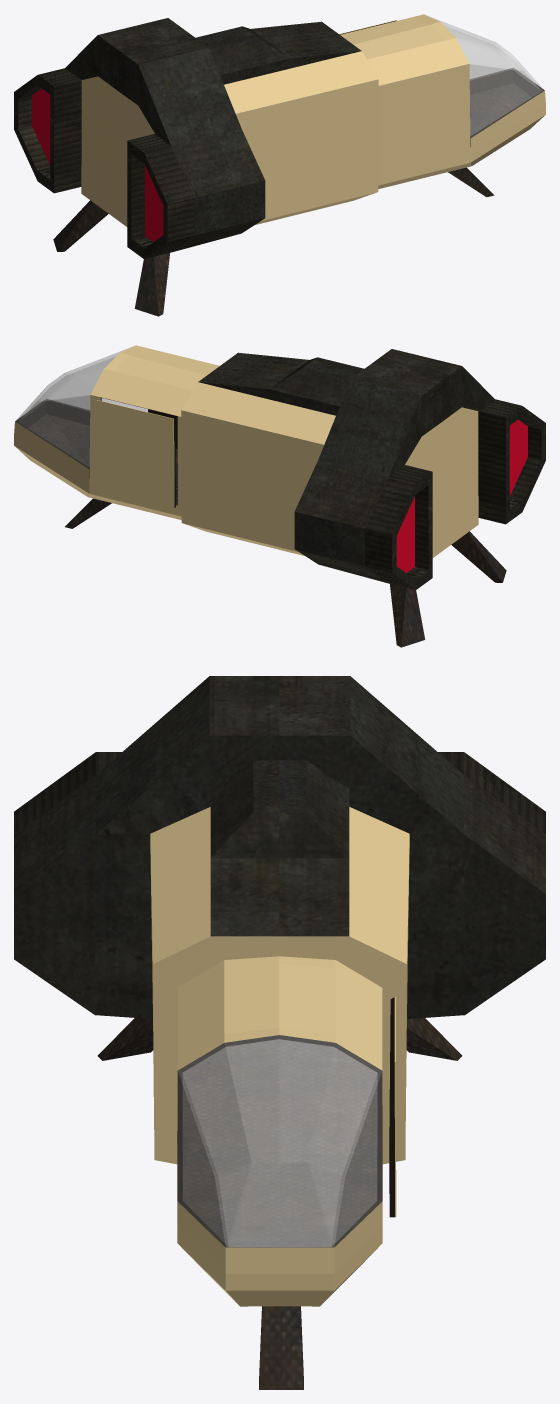
Rendered from Ship.fbx_Scene.fbx.
The picture shows the model from 3 angles, top to bottom: view 1: azimuth 30°, elevation 25°; view 2: azimuth 150°, elevation 25°; view 3: azimuth 270°, elevation 25°; orthographic projection. The views are drawn at different scales.
Parts seen in each view (by area): view 1: Chassis, Engine, Window, BackLandingGear, FrontLandingGear; view 2: Engine, Chassis, Door, Window, BackLandingGear, FrontLandingGear; view 3: Engine, Chassis, Window, FrontLandingGear, BackLandingGear, Door.
Part boxes in pixels (x1,y1,x2,y2): Chassis: [81, 14, 545, 226]; Engine: [14, 18, 361, 258]; Window: [428, 16, 544, 137]; BackLandingGear: [53, 200, 169, 316]; FrontLandingGear: [448, 167, 494, 197]; Engine: [198, 349, 545, 589]; Chassis: [14, 345, 478, 557]; Door: [95, 400, 175, 508]; Window: [15, 347, 147, 468]; BackLandingGear: [390, 531, 506, 647]; FrontLandingGear: [65, 498, 111, 528]; Engine: [14, 676, 545, 1018]; Chassis: [150, 807, 409, 1306]; Window: [177, 1035, 382, 1247]; FrontLandingGear: [259, 1306, 303, 1389]; BackLandingGear: [97, 1018, 462, 1060]; Door: [389, 997, 396, 1217].
Bounding box in the file's own units: 1610 × 810 × 974.
9 materials, 6 textured.
